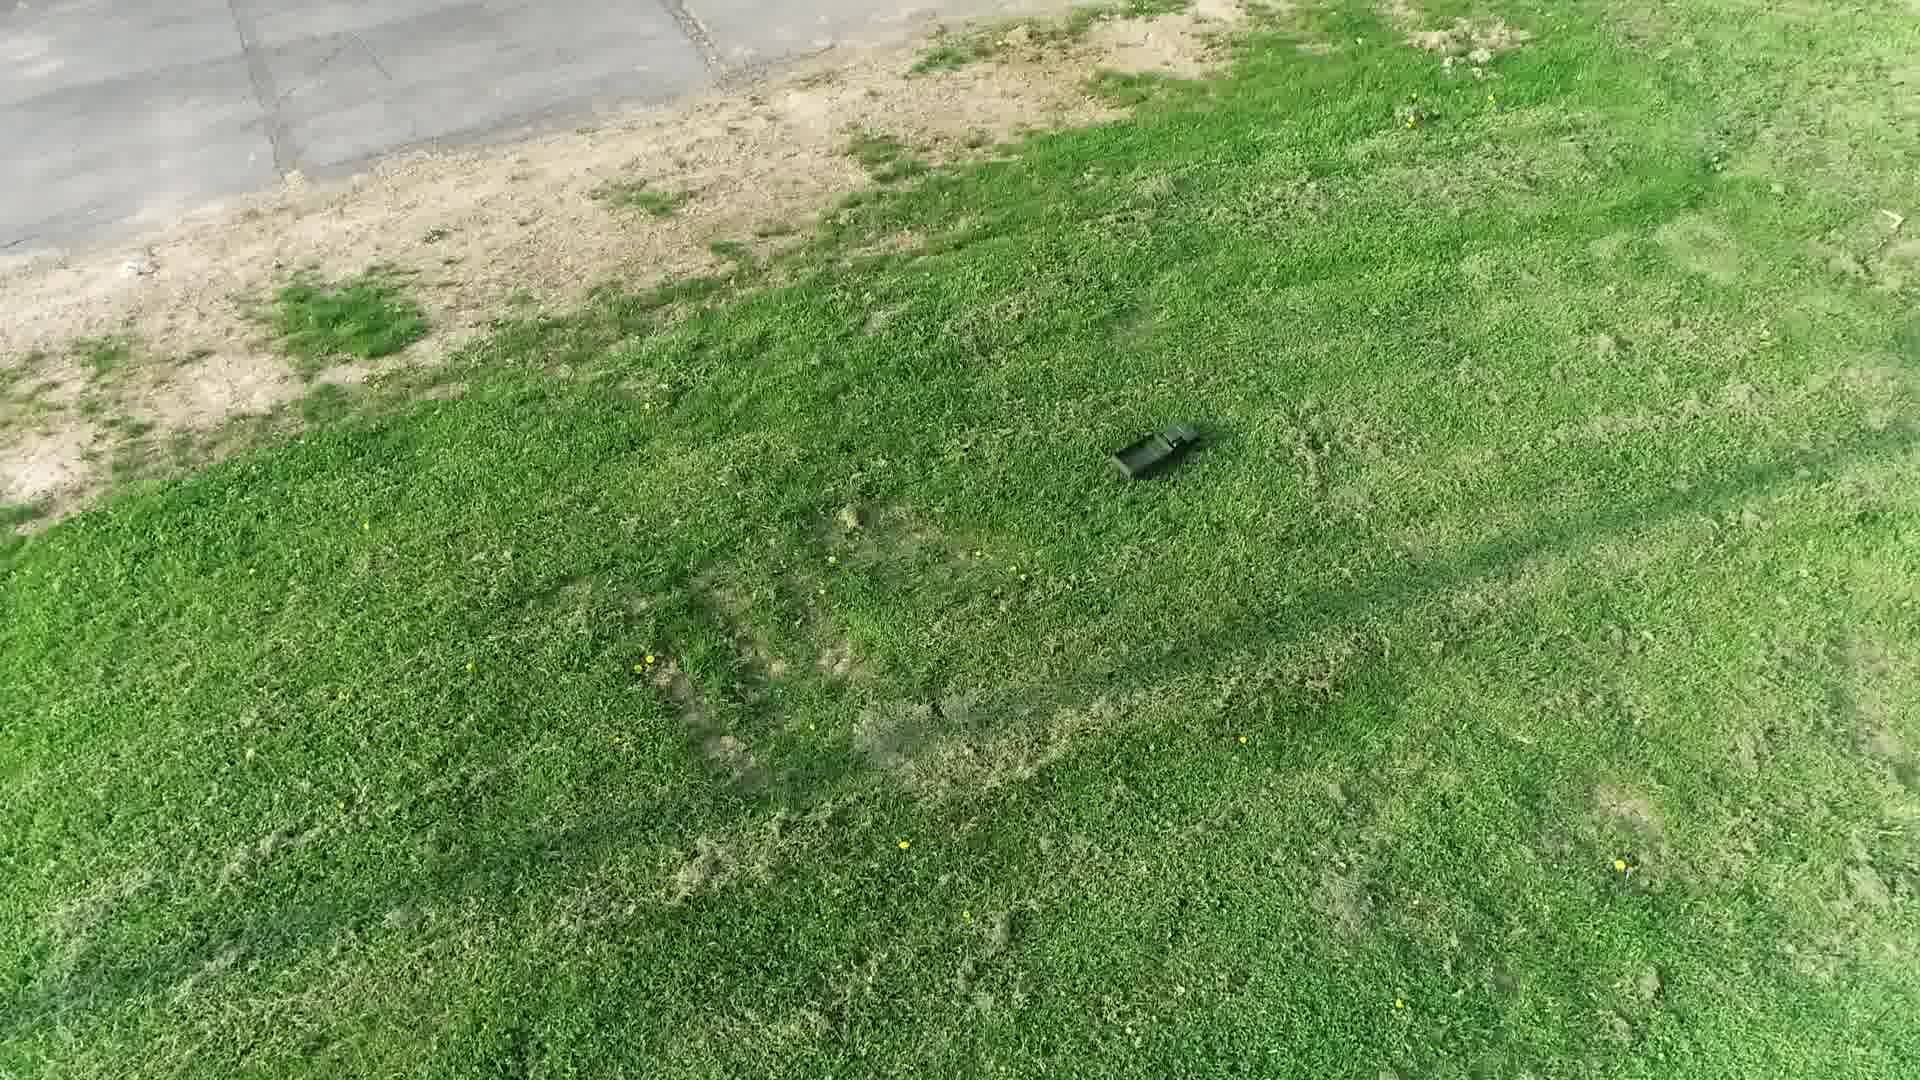transporter9: (1106, 415, 1199, 483)
